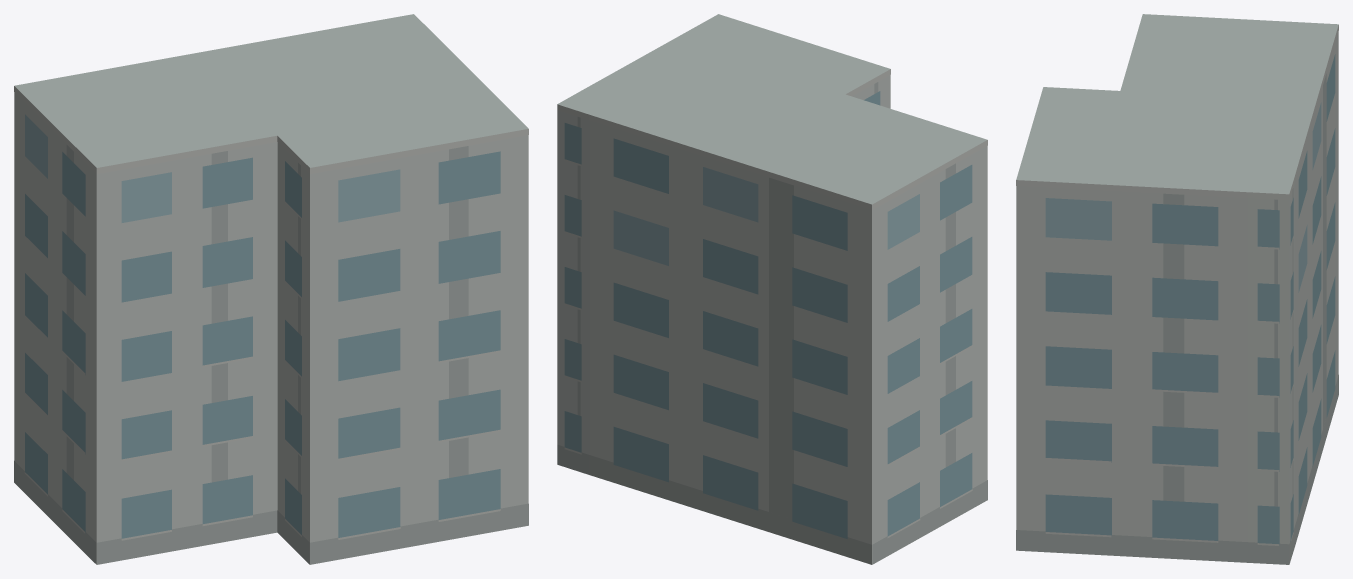
Rendered from residential-d06f9d65-f855-48e0-9e75-579838291150.glb.
The picture shows the model from 3 angles, left to right: view 1: azimuth 30°, elevation 25°; view 2: azimuth 150°, elevation 25°; view 3: azimuth 270°, elevation 25°; orthographic projection. The views are drawn at different scales.
Parts seen in each view (by area): view 1: residential-d06f9d65-f855-48e0-9e75-579838291150.tmp; view 2: residential-d06f9d65-f855-48e0-9e75-579838291150.tmp; view 3: residential-d06f9d65-f855-48e0-9e75-579838291150.tmp.
Part boxes in pixels (x1,y1,x2,y2): residential-d06f9d65-f855-48e0-9e75-579838291150.tmp: (14,14,528,564); residential-d06f9d65-f855-48e0-9e75-579838291150.tmp: (557,14,987,564); residential-d06f9d65-f855-48e0-9e75-579838291150.tmp: (1016,14,1338,564).
Bounding box in the file's own units: 15.92 × 15.25 × 12.05.
